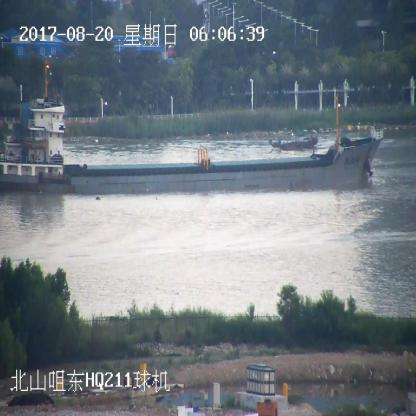Bulk Carrier: (0, 57, 385, 190)
